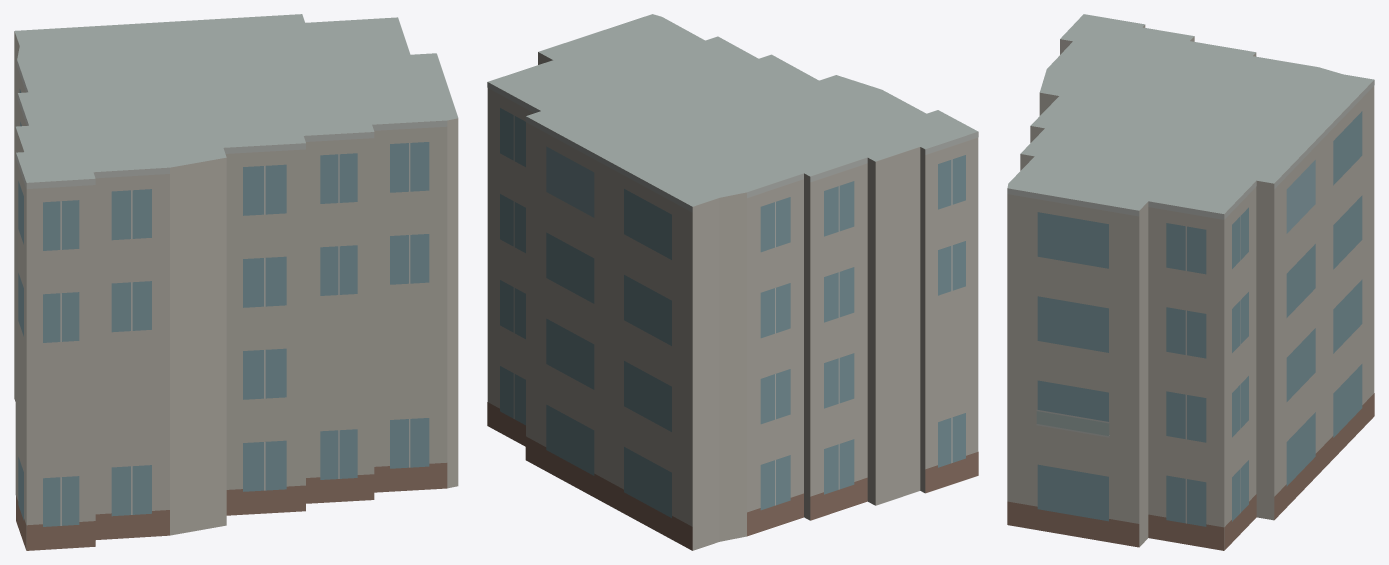
The model's file is survey-upis-32672156.glb.
3 renders of one model, left to right at view 1: azimuth 30°, elevation 25°; view 2: azimuth 150°, elevation 25°; view 3: azimuth 270°, elevation 25°, orthographic. The views are drawn at different scales.
Parts seen in each view (by area): view 1: survey-upis-32672156.tmp; view 2: survey-upis-32672156.tmp; view 3: survey-upis-32672156.tmp.
Boxes of the visible parts, box(x1,y1,x2,y2) form: survey-upis-32672156.tmp: box(14, 14, 458, 550); survey-upis-32672156.tmp: box(487, 14, 978, 550); survey-upis-32672156.tmp: box(1007, 14, 1374, 550).
Bounding box in the file's own units: 18.28 × 14.33 × 14.17.
